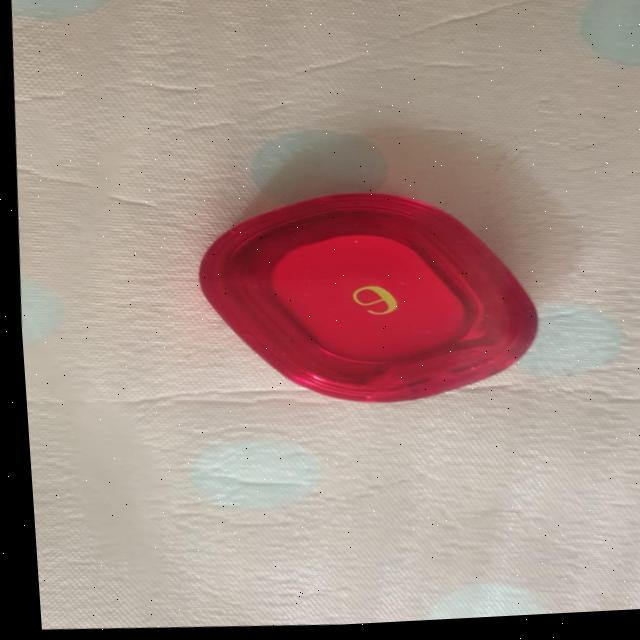eye shade: (144, 165, 568, 438)
